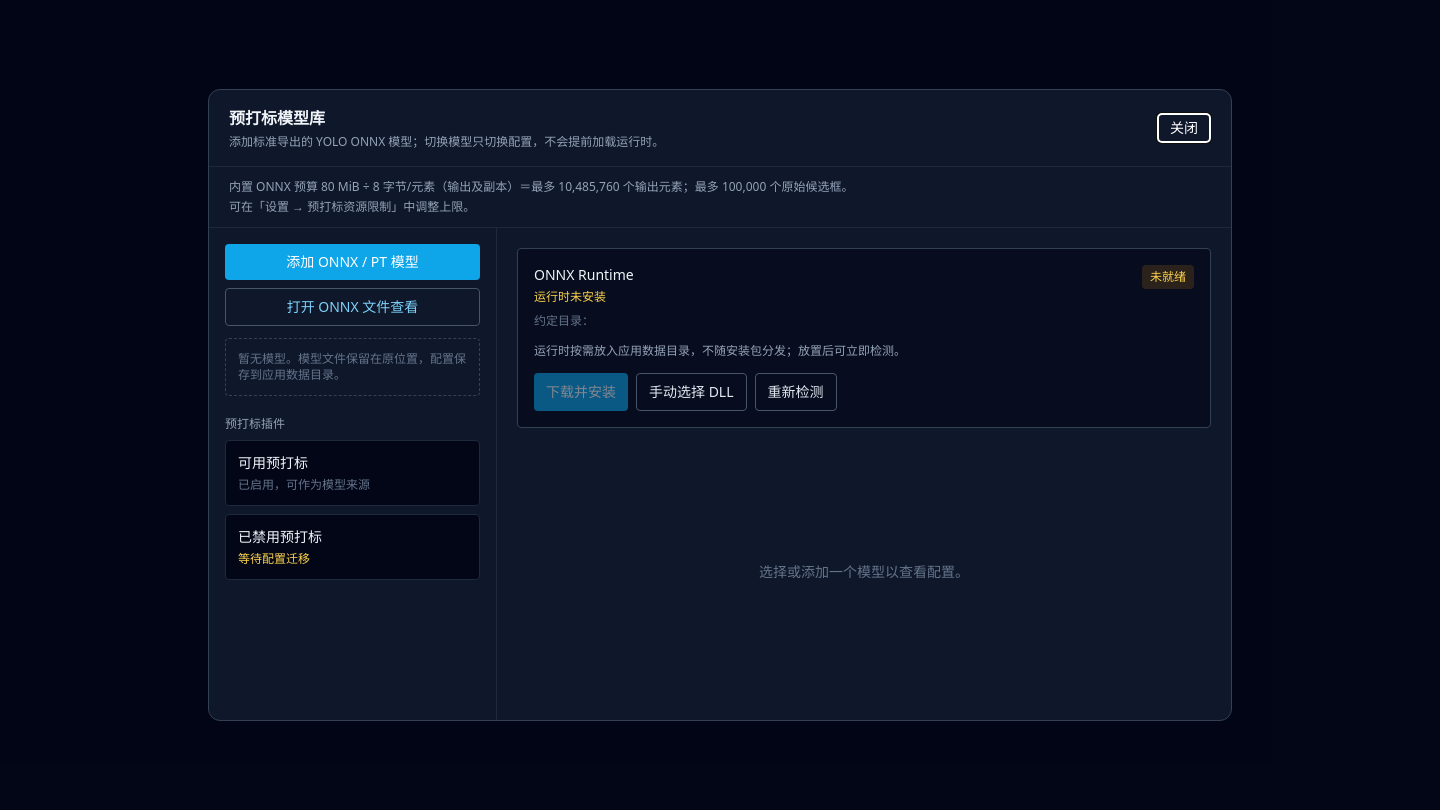
Test: plugin UI acceptance › shows enabled and disabled prelabel sources with their live reasons
Click the button "可用预打标 已启用，可作为模型来源": point(352, 473) [225,440,480,506]
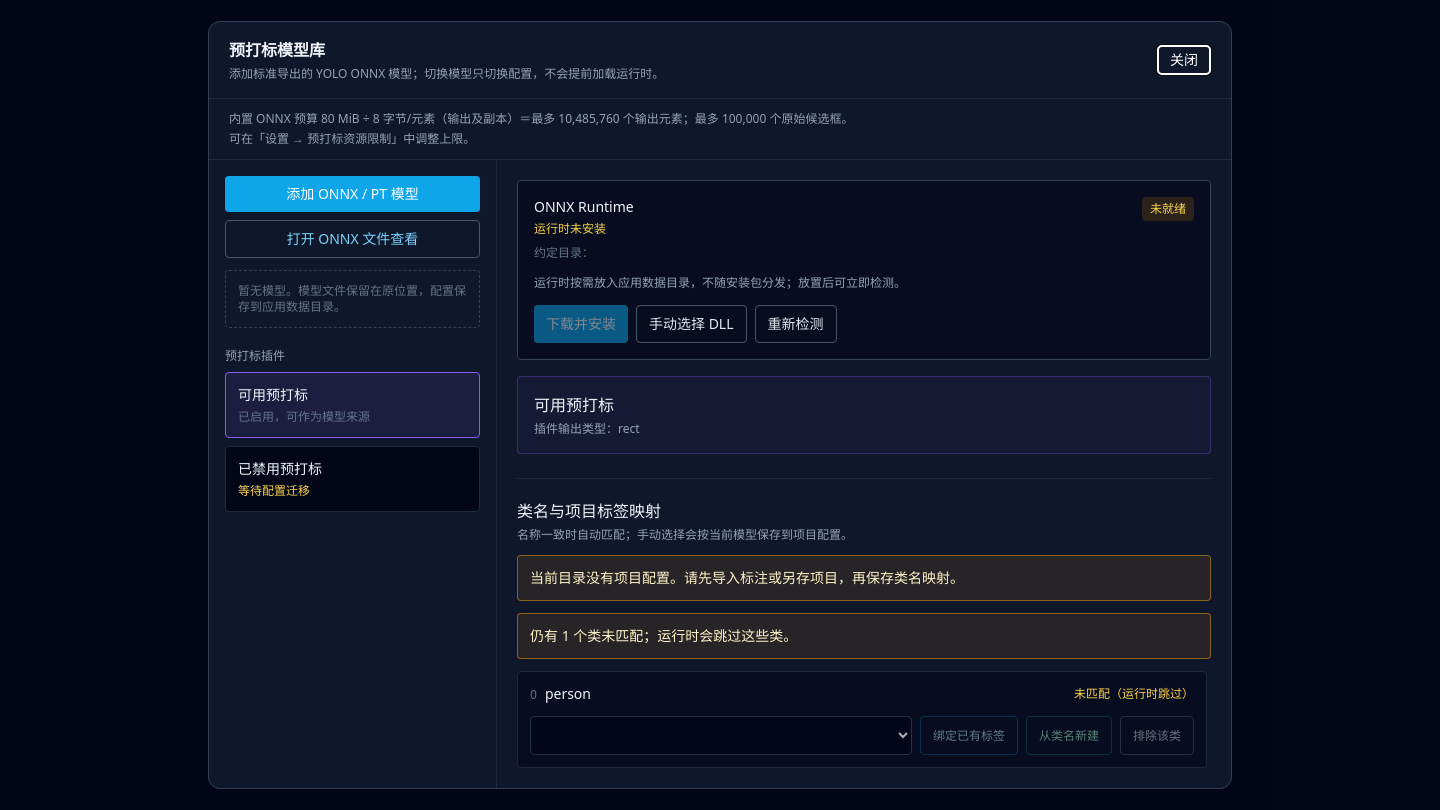
Expected: the text "可用预打标" is shown, [238,385,308,404]
Now the text "person" is shown, box [545,684,591,703]
